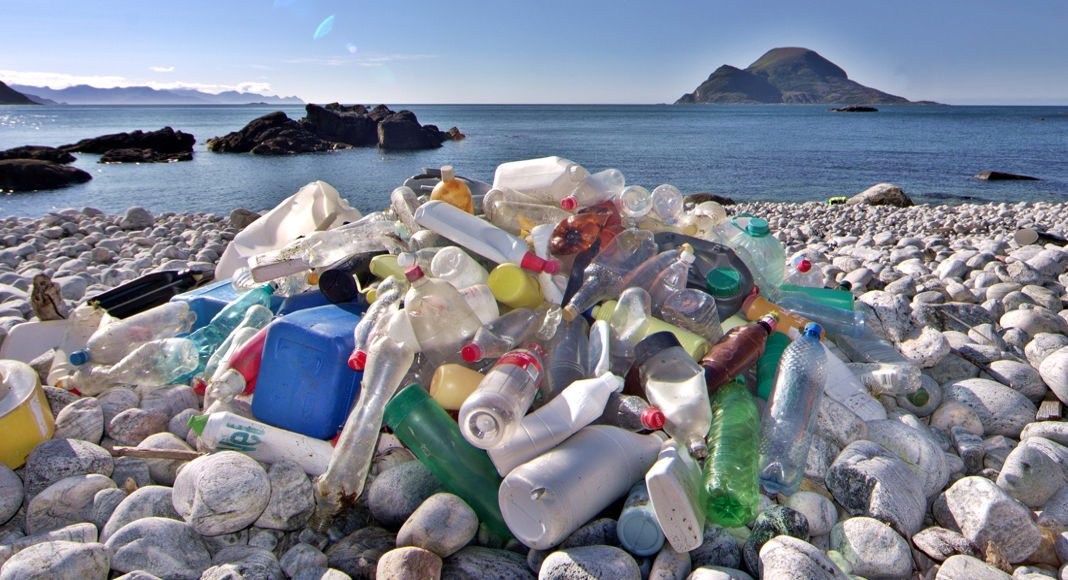litter: (482, 413, 691, 547), (315, 276, 423, 506), (39, 274, 225, 361), (771, 323, 860, 487), (239, 212, 410, 293), (406, 192, 561, 273), (460, 330, 566, 446), (694, 361, 768, 524), (561, 213, 657, 325), (691, 298, 786, 384), (491, 137, 596, 203), (441, 301, 542, 367), (539, 191, 630, 252), (605, 277, 657, 358), (655, 242, 697, 325)
